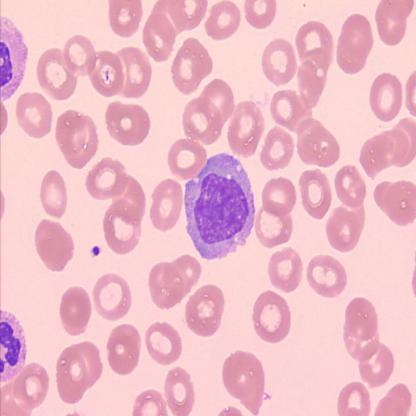Monocyte: (183, 150, 256, 262)
